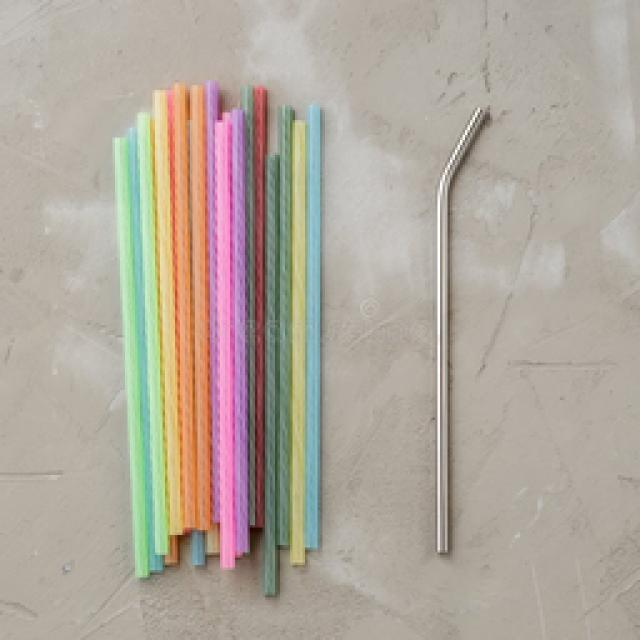plastic: (108, 75, 332, 590), (110, 125, 148, 577)
